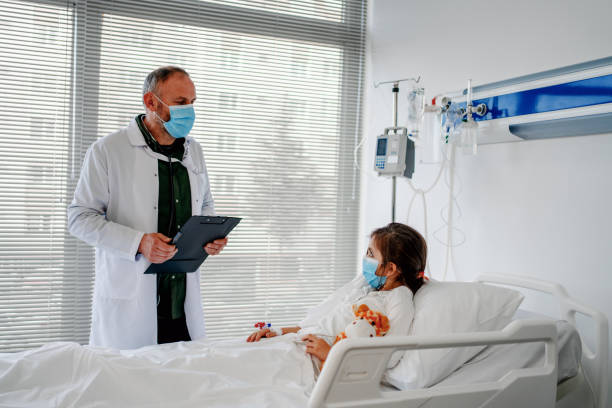bedrail: (306, 319, 584, 408)
hospital_bed: (1, 274, 612, 408)
infusion_pump: (373, 125, 416, 180)
iv_pole: (371, 75, 423, 224)
patient: (3, 222, 427, 390)
staff: (66, 65, 243, 345)
